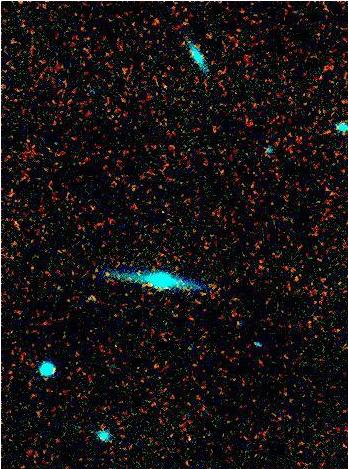star: (92, 258, 122, 288)
